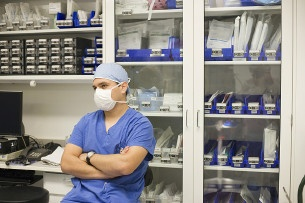Mask: (91, 78, 124, 111)
